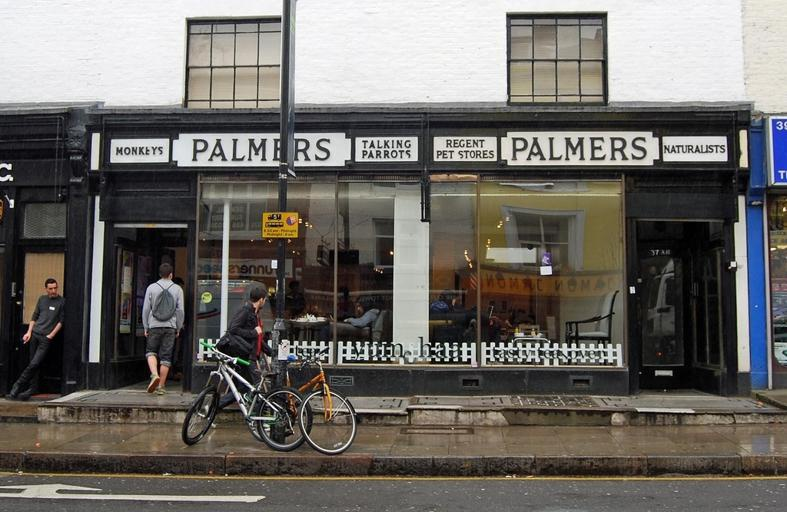non-vehicle: (180, 337, 313, 451), (238, 346, 357, 456)
